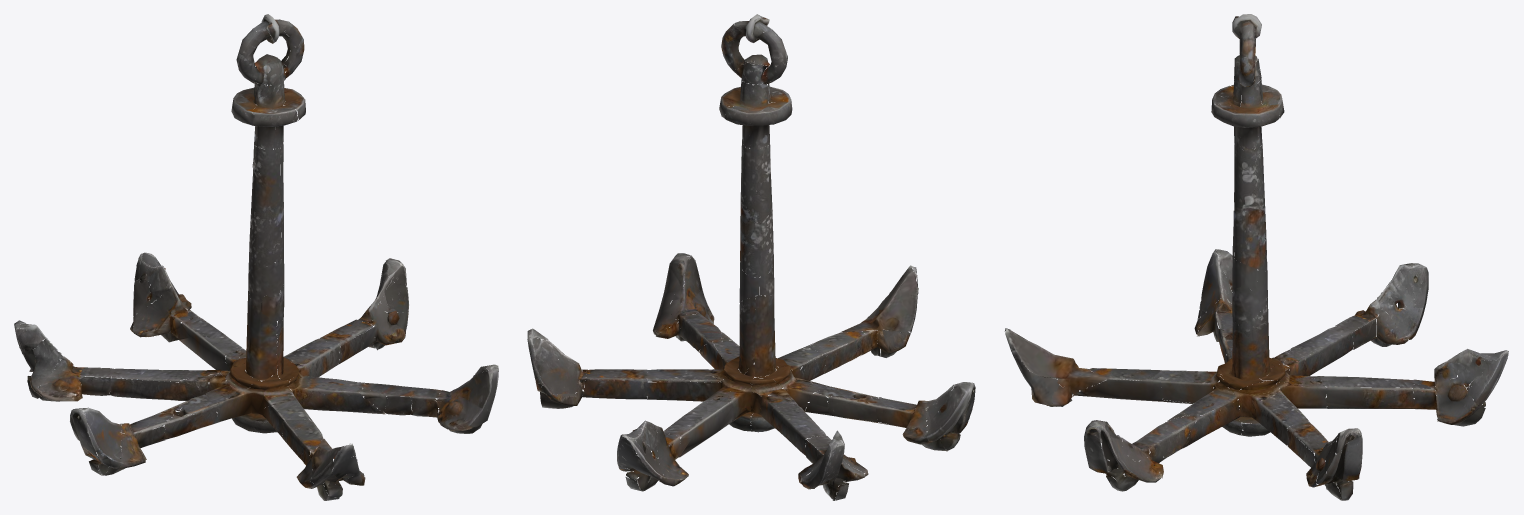
The model's file is mini_anchor.glb.
3 views of the same model, side by side, from view 1: azimuth 30°, elevation 25°; view 2: azimuth 150°, elevation 25°; view 3: azimuth 270°, elevation 25° (orthographic). The views are drawn at different scales.
Parts seen in each view (by area): view 1: tripo_node_fb8f0d62-b693-400e-86ba-840f58ad2ae6; view 2: tripo_node_fb8f0d62-b693-400e-86ba-840f58ad2ae6; view 3: tripo_node_fb8f0d62-b693-400e-86ba-840f58ad2ae6.
Part boxes in pixels (bbox=[...]): tripo_node_fb8f0d62-b693-400e-86ba-840f58ad2ae6: bbox=[14, 14, 498, 500]; tripo_node_fb8f0d62-b693-400e-86ba-840f58ad2ae6: bbox=[527, 14, 975, 500]; tripo_node_fb8f0d62-b693-400e-86ba-840f58ad2ae6: bbox=[1004, 14, 1508, 500].
Bounding box in the file's own units: 0.9015 × 0.9092 × 1.
1 material, 1 textured.
